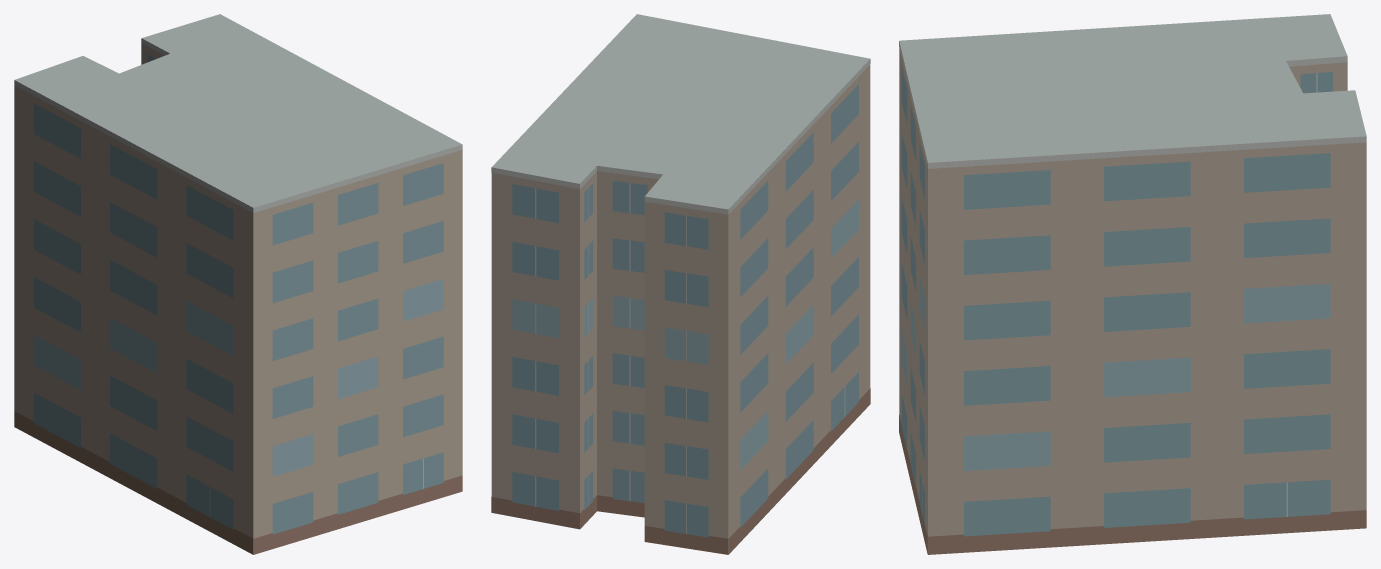
The model's file is survey-upis-32577295.glb.
3 views of the same model, side by side, from view 1: azimuth 30°, elevation 25°; view 2: azimuth 150°, elevation 25°; view 3: azimuth 270°, elevation 25° (orthographic). The views are drawn at different scales.
Parts seen in each view (by area): view 1: survey-upis-32577295.tmp; view 2: survey-upis-32577295.tmp; view 3: survey-upis-32577295.tmp.
Part boxes in pixels (x1,y1,x2,y2): survey-upis-32577295.tmp: [14, 14, 462, 554]; survey-upis-32577295.tmp: [491, 14, 870, 554]; survey-upis-32577295.tmp: [899, 14, 1366, 554].
Bounding box in the file's own units: 13.05 × 16 × 17.31.
